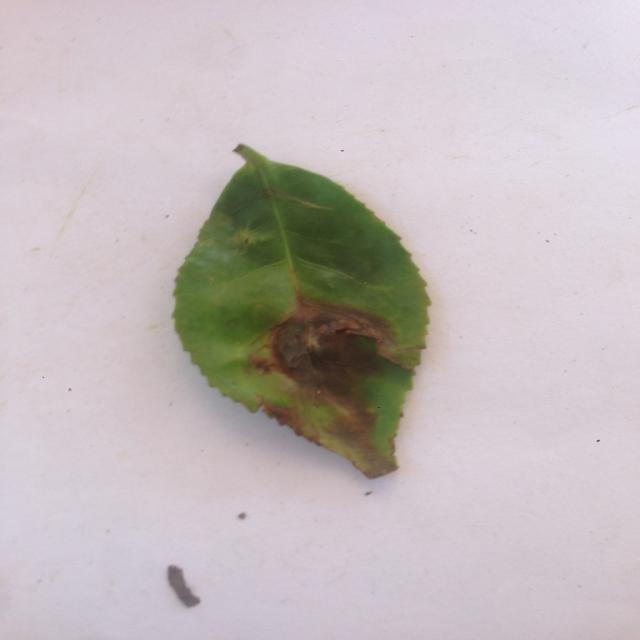Brown Blight: (168, 128, 456, 480)
